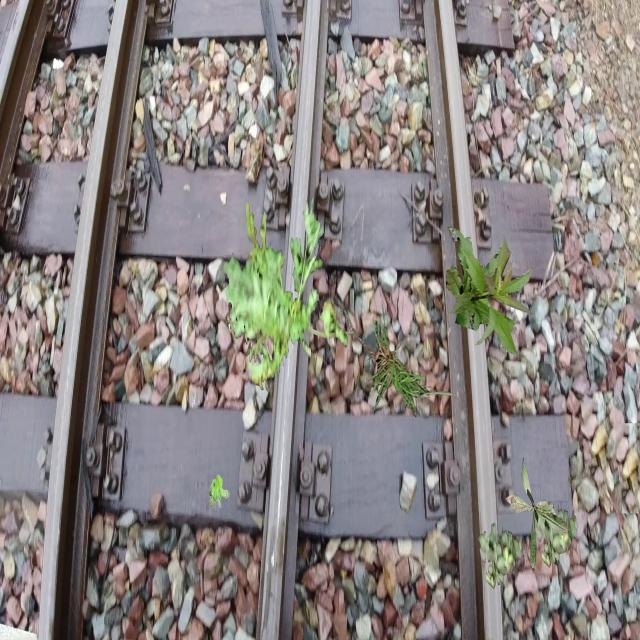Plant: (223, 197, 348, 393), (321, 299, 464, 418), (446, 227, 534, 357), (506, 457, 570, 569), (234, 250, 276, 330), (226, 292, 268, 364), (534, 501, 578, 568), (478, 523, 522, 590), (209, 475, 230, 508)
